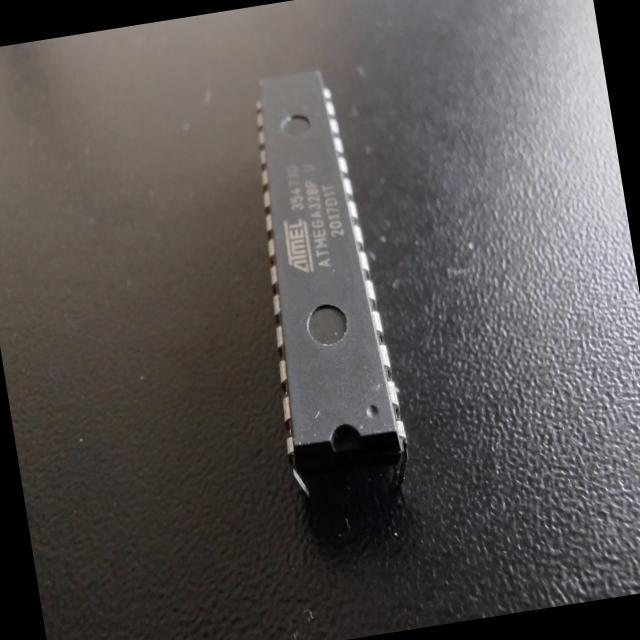atmega: (227, 61, 418, 514)
